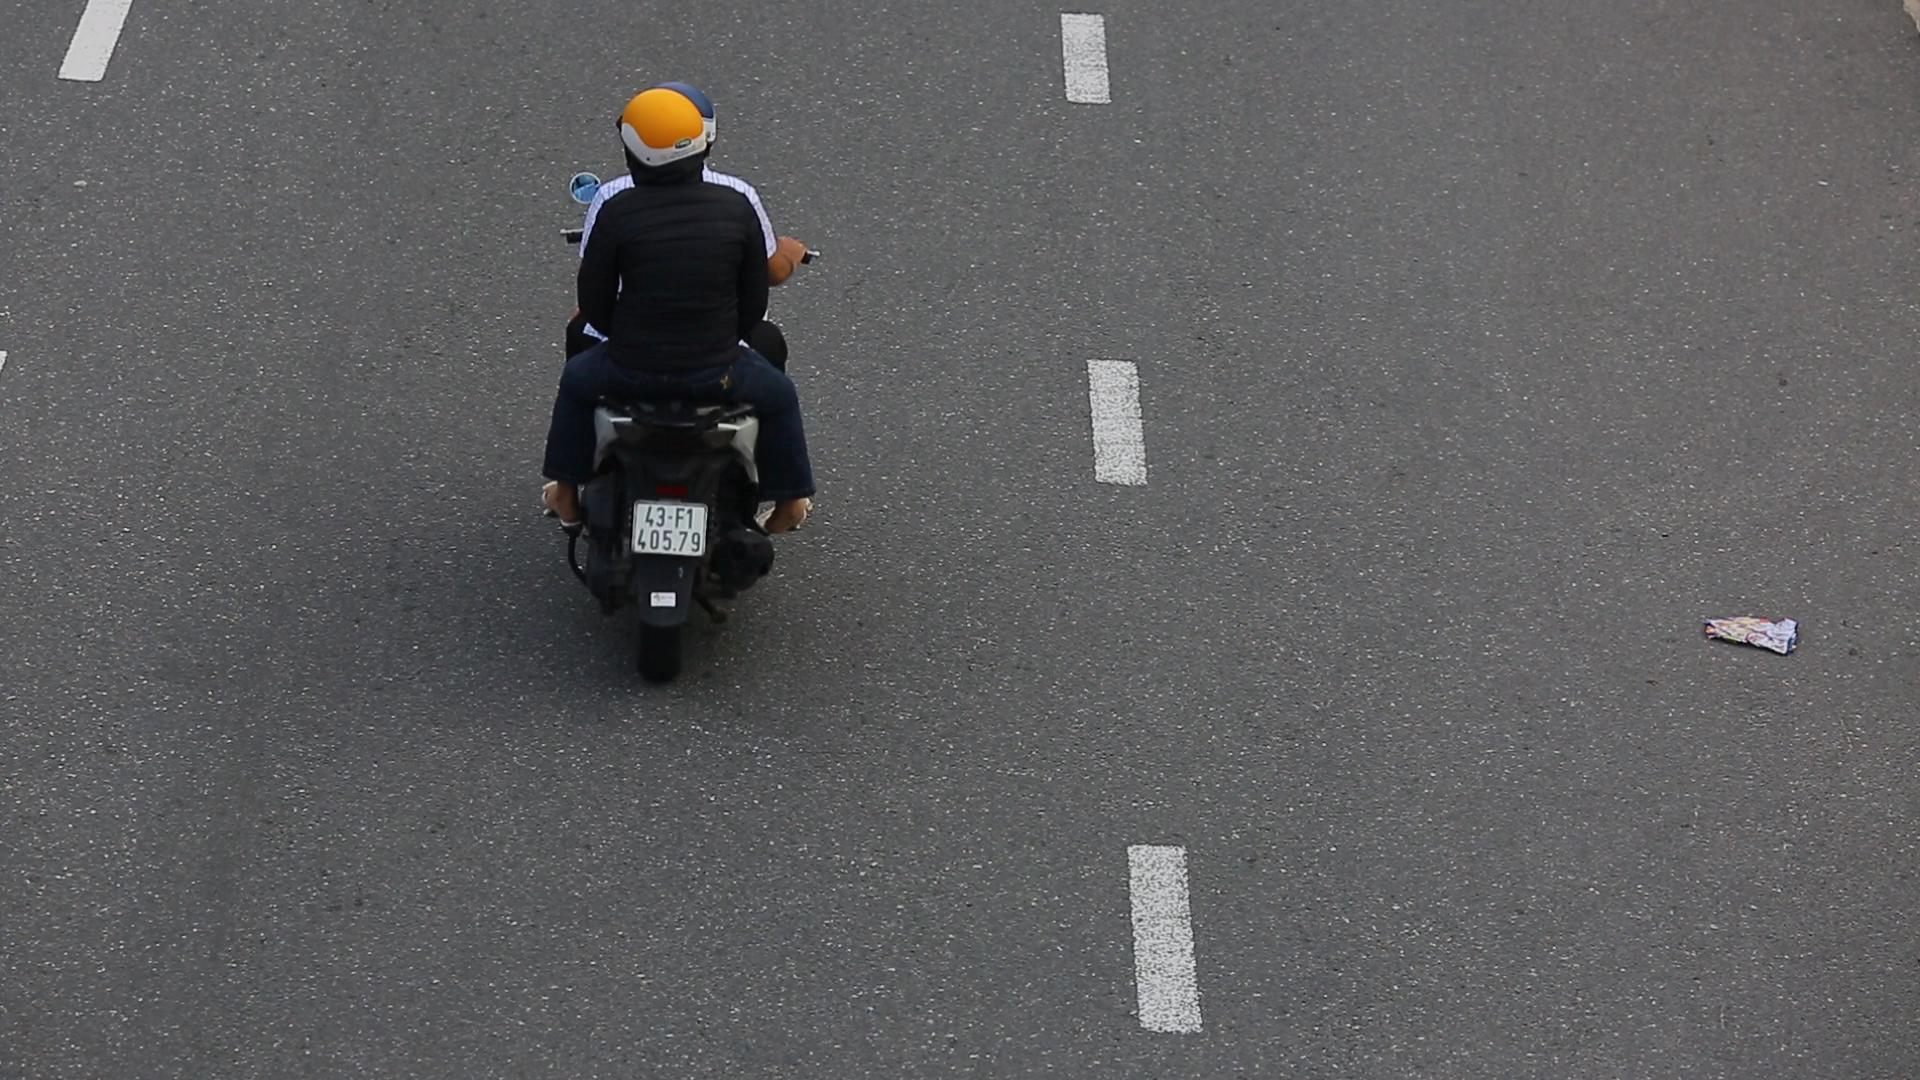motobike: (517, 32, 827, 687)
